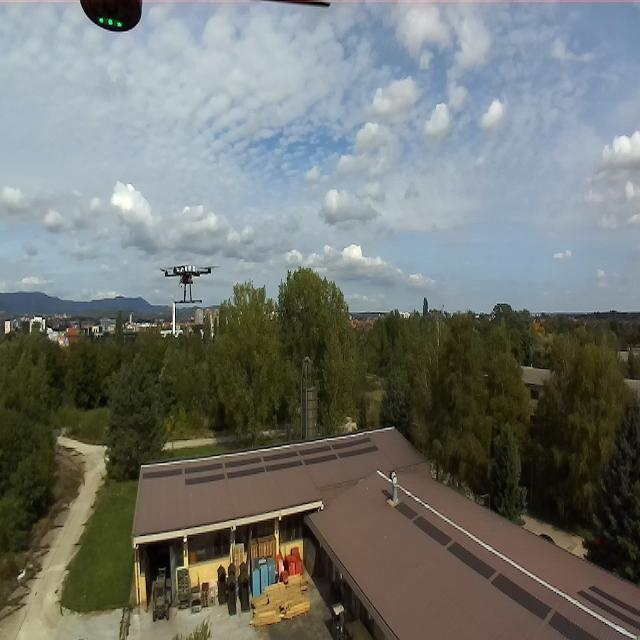UAV: (157, 258, 221, 306)
